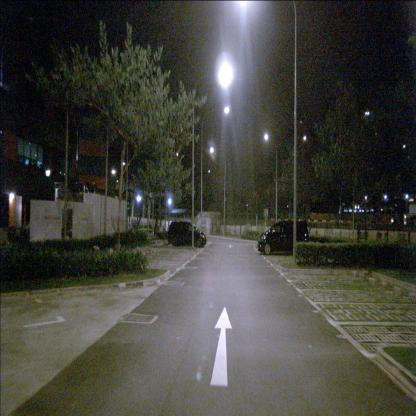vehicle-car: (258, 219, 309, 256), (167, 221, 207, 249)
